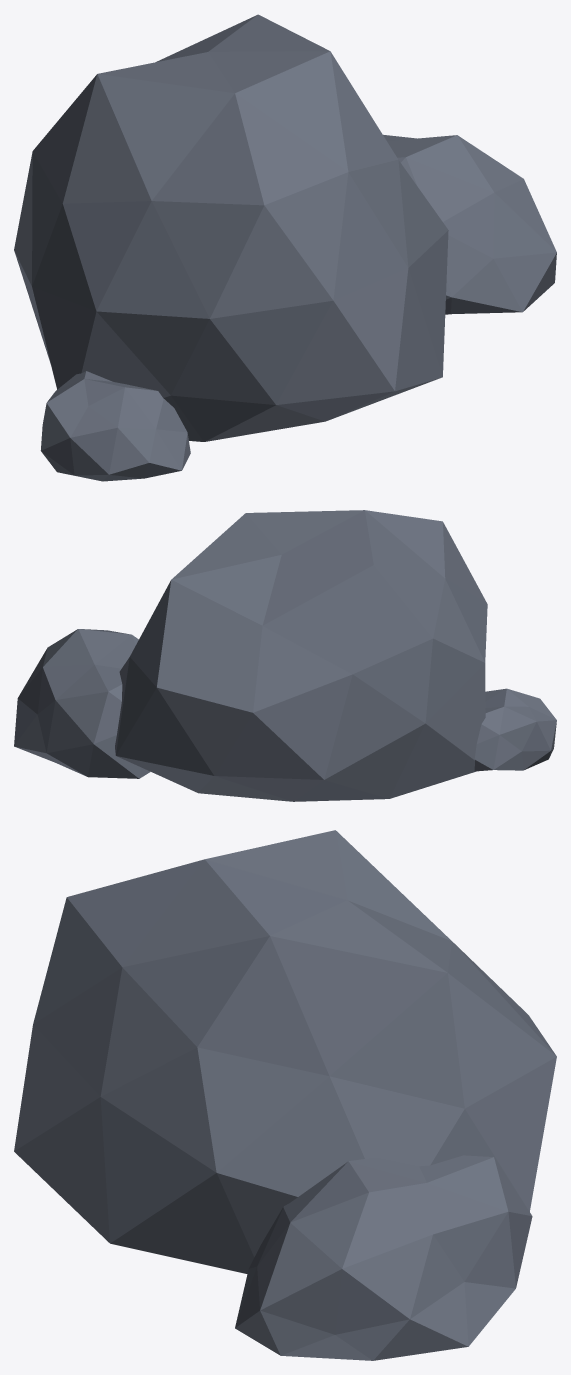
File: RockLarge.fbx
3 renders of one model, top to bottom at view 1: azimuth 30°, elevation 25°; view 2: azimuth 150°, elevation 25°; view 3: azimuth 270°, elevation 25°, orthographic. The views are drawn at different scales.
Visible parts, largest first — view 1: RockLarge; view 2: RockLarge; view 3: RockLarge.
Boxes of the visible parts, box(x1,y1,x2,y2) form: RockLarge: box(14, 14, 556, 481); RockLarge: box(14, 510, 556, 801); RockLarge: box(14, 830, 556, 1360).
Size of the model in its own units: 2.48 by 1.22 by 1.91.
